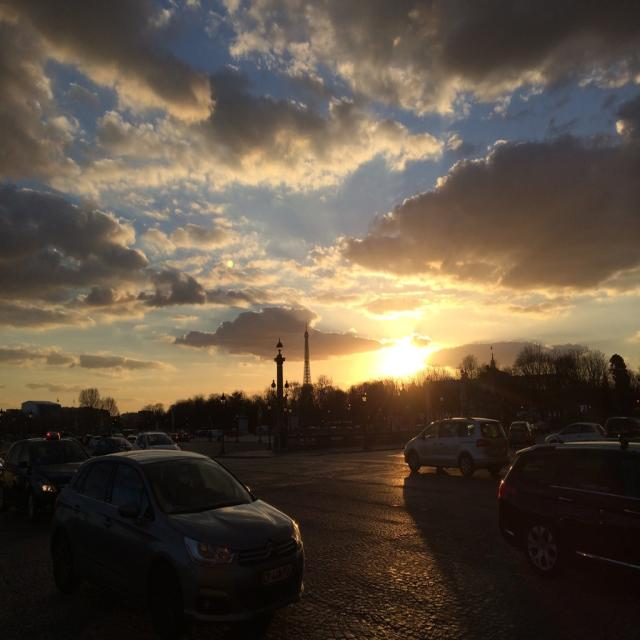car: (41, 446, 315, 627), (400, 411, 506, 472)
